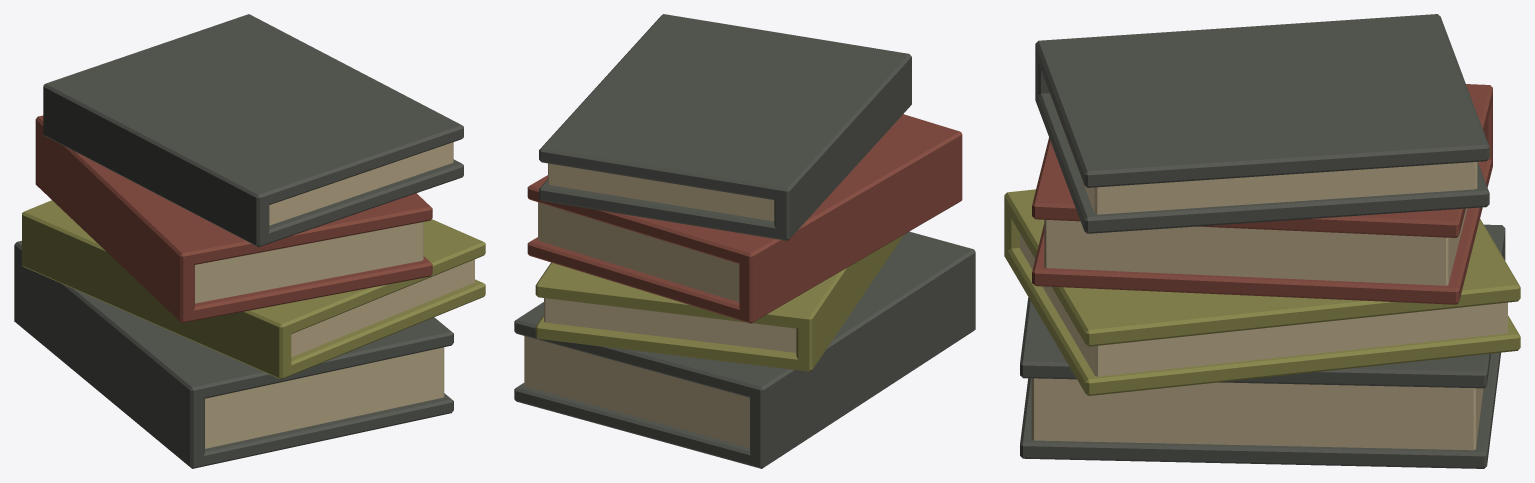
The model's file is Library_BookStack_C.fbx.
The picture shows the model from 3 angles, left to right: view 1: azimuth 30°, elevation 25°; view 2: azimuth 150°, elevation 25°; view 3: azimuth 270°, elevation 25°; orthographic projection. The views are drawn at different scales.
Parts seen in each view (by area): view 1: Upper_cover.019, Spine.016, Spine.017, Pages.016, Spine.019, Spine.018, Pages.018, Upper_cover.016, Upper_cover.018, Upper_cover.017, Lower_cover.016, Pages.017 (+4 smaller); view 2: Upper_cover.019, Spine.016, Spine.018, Pages.016, Upper_cover.016, Upper_cover.018, Pages.018, Spine.019, Pages.017, Upper_cover.017, Pages.019, Lower_cover.017 (+4 smaller); view 3: Upper_cover.019, Pages.016, Pages.018, Upper_cover.017, Pages.017, Lower_cover.017, Pages.019, Lower_cover.016, Lower_cover.019, Lower_cover.018, Upper_cover.016, Upper_cover.018 (+2 smaller).
Part boxes in pixels (<box>): Upper_cover.019: <box>46,14,463,204</box>; Spine.016: <box>14,242,204,468</box>; Spine.017: <box>22,208,291,379</box>; Pages.016: <box>205,347,444,448</box>; Spine.019: <box>43,83,269,247</box>; Spine.018: <box>35,116,194,323</box>; Pages.018: <box>195,222,423,303</box>; Upper_cover.016: <box>17,241,453,399</box>; Upper_cover.018: <box>39,115,432,265</box>; Upper_cover.017: <box>32,200,485,333</box>; Lower_cover.016: <box>194,393,453,467</box>; Pages.017: <box>291,259,474,357</box>; Upper_cover.019: <box>539,14,908,199</box>; Spine.016: <box>750,249,975,468</box>; Spine.018: <box>739,131,962,323</box>; Pages.016: <box>524,336,749,447</box>; Upper_cover.016: <box>514,231,972,397</box>; Upper_cover.018: <box>527,114,959,265</box>; Pages.018: <box>538,202,739,302</box>; Spine.019: <box>774,54,911,240</box>; Pages.017: <box>544,298,796,352</box>; Upper_cover.017: <box>535,262,838,328</box>; Pages.019: <box>548,163,774,221</box>; Lower_cover.017: <box>535,315,808,371</box>; Upper_cover.019: <box>1035,14,1489,187</box>; Pages.016: <box>1031,378,1483,450</box>; Pages.018: <box>1044,161,1478,285</box>; Upper_cover.017: <box>1005,195,1520,346</box>; Pages.017: <box>1020,234,1507,376</box>; Lower_cover.017: <box>1004,247,1520,395</box>; Pages.019: <box>1050,94,1477,214</box>; Lower_cover.016: <box>1020,352,1500,468</box>; Lower_cover.019: <box>1035,93,1489,233</box>; Lower_cover.018: <box>1032,159,1491,304</box>; Upper_cover.016: <box>1020,225,1504,388</box>; Upper_cover.018: <box>1032,84,1492,237</box>.
Size of the model in its own units: 0.5723 by 0.445 by 0.6736.
